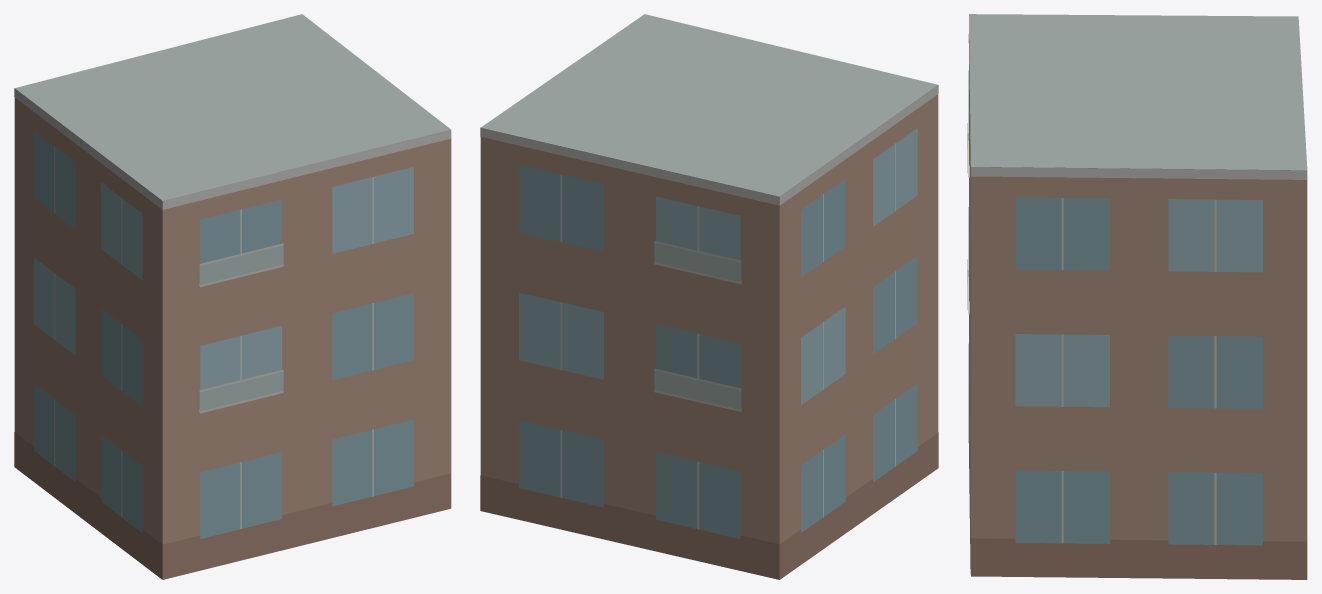
File: survey-upis-32774327.glb
3 renders of one model, left to right at view 1: azimuth 30°, elevation 25°; view 2: azimuth 150°, elevation 25°; view 3: azimuth 270°, elevation 25°, orthographic. The views are drawn at different scales.
Parts seen in each view (by area): view 1: survey-upis-32774327.tmp; view 2: survey-upis-32774327.tmp; view 3: survey-upis-32774327.tmp.
Part boxes in pixels (left/top/right/bottom): survey-upis-32774327.tmp: left=14, top=14, right=451, bottom=579; survey-upis-32774327.tmp: left=480, top=14, right=938, bottom=579; survey-upis-32774327.tmp: left=967, top=14, right=1307, bottom=579.
Size of the model in its own units: 8.44 by 10.3 by 7.76.
